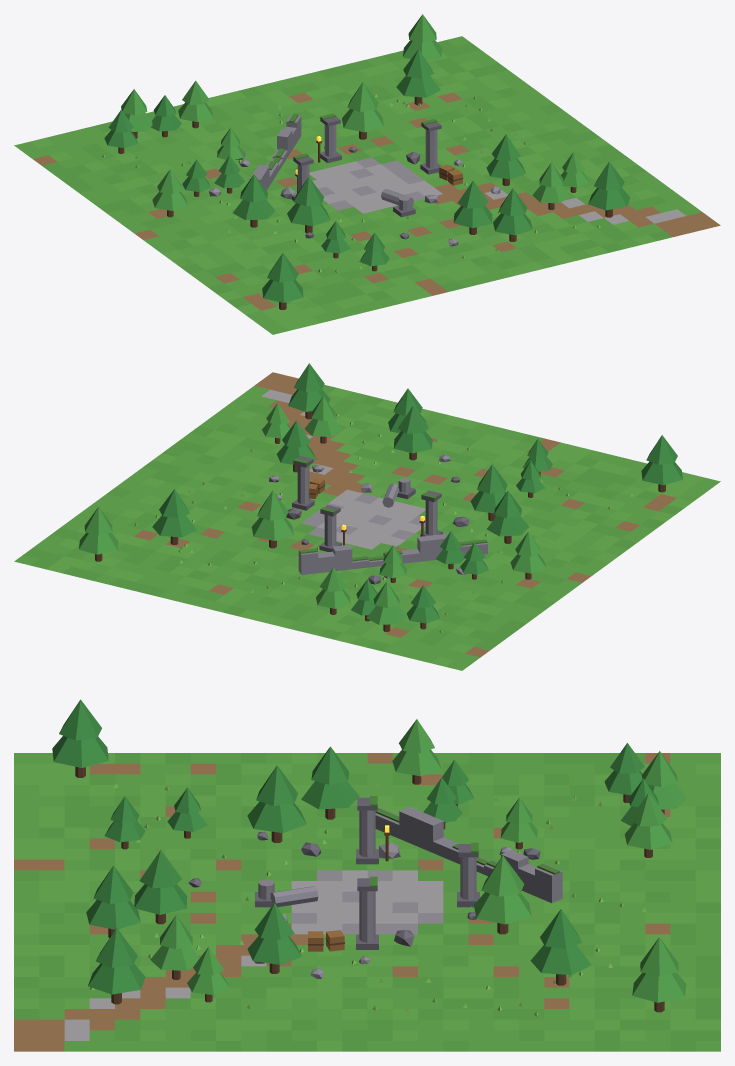
The model's file is level.glb.
3 renders of one model, top to bottom at view 1: azimuth 30°, elevation 25°; view 2: azimuth 150°, elevation 25°; view 3: azimuth 270°, elevation 25°, orthographic. The views are drawn at different scales.
Parts seen in each view (by area): view 1: Sol, Arbre20_Feuilles1, Arbre1_Feuilles1, Arbre8_Feuilles1, Arbre15_Feuilles1, Arbre5_Feuilles1, Arbre13_Feuilles1, Arbre14_Feuilles1, Arbre18_Feuilles1, Arbre10_Feuilles1, Arbre0_Feuilles1, Arbre20_Feuilles2 (+8 smaller); view 2: Sol, Arbre20_Feuilles1, Arbre1_Feuilles1, Arbre5_Feuilles1, Arbre0_Feuilles1, Arbre13_Feuilles1, Arbre18_Feuilles1, Arbre15_Feuilles1, Arbre16_Feuilles1, Arbre20_Feuilles2, Arbre1_Feuilles2, Arbre8_Feuilles2 (+10 smaller); view 3: Sol, Arbre20_Feuilles1, Arbre1_Feuilles1, Arbre8_Feuilles1, Arbre15_Feuilles1, Arbre5_Feuilles1, Arbre0_Feuilles1, Arbre13_Feuilles1, Arbre14_Feuilles1, Arbre18_Feuilles1, Arbre10_Feuilles1, Arbre20_Feuilles2 (+30 smaller).
Part boxes in pixels (x1=…): Sol: x1=14, y1=36, x2=720, y2=334; Arbre20_Feuilles1: x1=342, y1=108, x2=384, y2=132; Arbre1_Feuilles1: x1=262, y1=279, x2=303, y2=302; Arbre8_Feuilles1: x1=287, y1=203, x2=330, y2=226; Arbre15_Feuilles1: x1=588, y1=187, x2=630, y2=210; Arbre5_Feuilles1: x1=396, y1=75, x2=440, y2=97; Arbre13_Feuilles1: x1=453, y1=205, x2=492, y2=227; Arbre14_Feuilles1: x1=493, y1=213, x2=532, y2=235; Arbre18_Feuilles1: x1=233, y1=199, x2=275, y2=220; Arbre10_Feuilles1: x1=486, y1=158, x2=525, y2=179; Arbre0_Feuilles1: x1=403, y1=40, x2=442, y2=60; Arbre20_Feuilles2: x1=347, y1=82, x2=378, y2=112; Sol: x1=14, y1=372, x2=720, y2=670; Arbre20_Feuilles1: x1=251, y1=517, x2=293, y2=540; Arbre1_Feuilles1: x1=641, y1=461, x2=682, y2=485; Arbre5_Feuilles1: x1=152, y1=515, x2=196, y2=537; Arbre0_Feuilles1: x1=79, y1=532, x2=118, y2=554; Arbre13_Feuilles1: x1=393, y1=431, x2=432, y2=453; Arbre18_Feuilles1: x1=487, y1=516, x2=529, y2=536; Arbre15_Feuilles1: x1=288, y1=389, x2=330, y2=411; Arbre16_Feuilles1: x1=367, y1=605, x2=406, y2=624; Arbre20_Feuilles2: x1=257, y1=490, x2=288, y2=520; Arbre1_Feuilles2: x1=646, y1=435, x2=677, y2=464; Arbre8_Feuilles2: x1=477, y1=464, x2=507, y2=493; Sol: x1=14, y1=753, x2=720, y2=1051; Arbre20_Feuilles1: x1=474, y1=892, x2=531, y2=924; Arbre1_Feuilles1: x1=52, y1=736, x2=108, y2=767; Arbre8_Feuilles1: x1=247, y1=801, x2=306, y2=832; Arbre15_Feuilles1: x1=88, y1=963, x2=145, y2=994; Arbre5_Feuilles1: x1=530, y1=945, x2=591, y2=975; Arbre0_Feuilles1: x1=632, y1=972, x2=686, y2=1002; Arbre13_Feuilles1: x1=134, y1=884, x2=187, y2=914; Arbre14_Feuilles1: x1=86, y1=900, x2=140, y2=929; Arbre18_Feuilles1: x1=301, y1=781, x2=359, y2=809; Arbre10_Feuilles1: x1=247, y1=936, x2=301, y2=964; Arbre20_Feuilles2: x1=481, y1=855, x2=524, y2=896.
Bounding box in the file's own units: 28 × 3.57 × 28.
